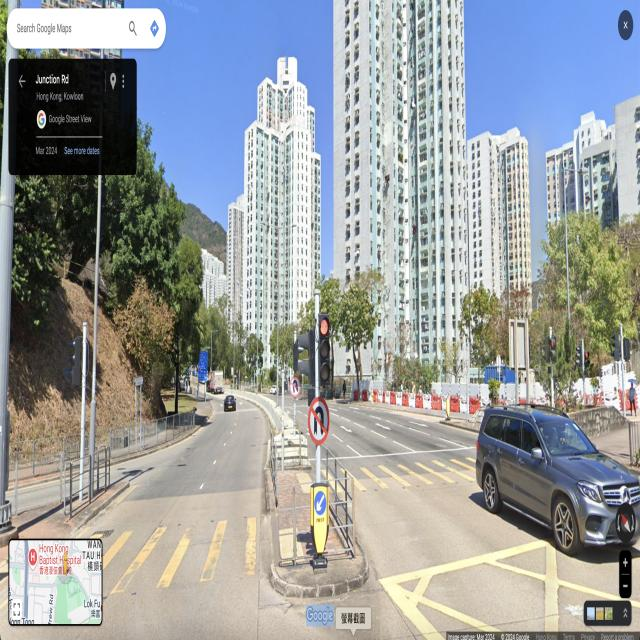Direction-Sign: (199, 351, 207, 381)
Order-Sign: (308, 397, 330, 445), (314, 490, 326, 516), (289, 376, 301, 398)
Street-Direction-Sign: (135, 376, 144, 387)
